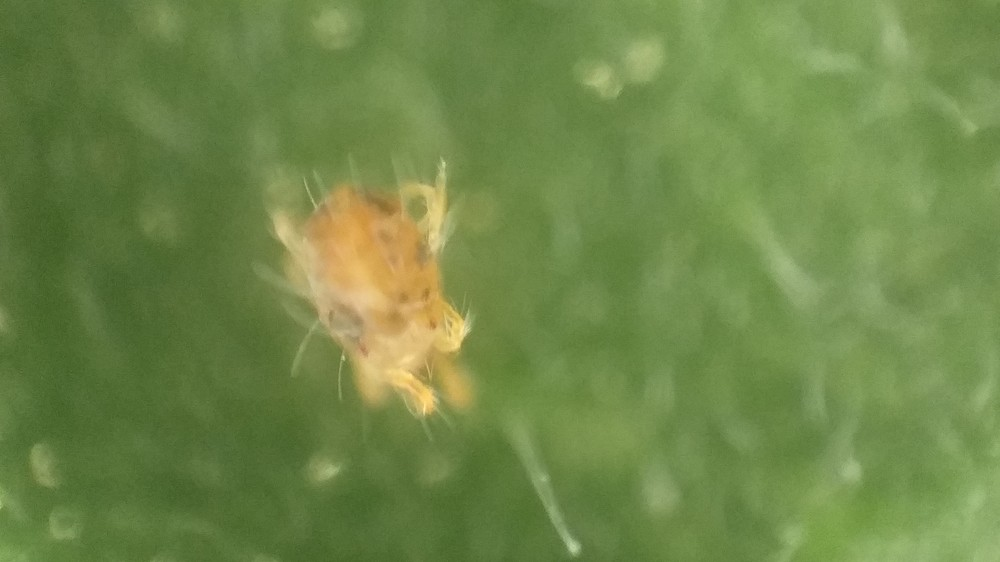Aracnido Rojo: (251, 146, 501, 439)
